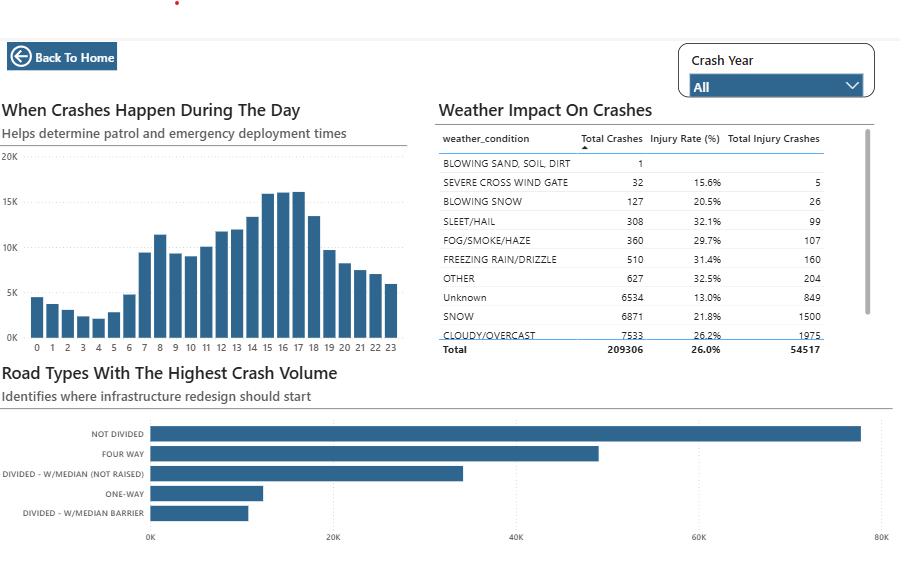

The page's visual inventory and layout, read from the dashboard file:
{"tool":"powerbi","page":{"name":"Deep Dive Analysis","canvas":[1280,720],"ordinal":1},"visuals":[{"type":"slicer","fields":{"Values":["Date_Table.Year"]},"box":[964.2,3.4,278.8,77.3],"z":0},{"type":"clusteredColumnChart","title":"When Crashes Happen During The Day","fields":{"Category":["traffic_accidents.crash_hour"],"Y":["_Measures.Total Crashes"]},"box":[0,80.6,579.5,372.9],"z":1000},{"type":"barChart","title":"Road Types With The Highest Crash Volume","fields":{"Category":["traffic_accidents.trafficway_type"],"Y":["_Measures.Total Crashes"]},"box":[0,453.5,1268.2,267.1],"z":2000},{"type":"tableEx","title":"Weather Impact On Crashes","fields":{"Values":["traffic_accidents.weather_condition","_Measures.Total Crashes","_Measures.Injury Rate (%)","_Measures.Total Injury Crashes"]},"box":[619.8,80.6,623.2,372.9],"z":3000},{"type":"actionButton","box":[13.4,1.7,156.2,40.3],"z":4000}]}

Visuals, with their boxes on the page's 1280x720 design canvas (x1, y1, x2, y2). These are canvas units, not pixel positions in the 900x563 screenshot, which may show the page scaled, cropped or inside an application window:
slicer - Date_Table.Year: (x1=964, y1=3, x2=1243, y2=81)
"When Crashes Happen During The Day" clusteredColumnChart: (x1=0, y1=81, x2=580, y2=454)
"Road Types With The Highest Crash Volume" barChart: (x1=0, y1=454, x2=1268, y2=721)
"Weather Impact On Crashes" tableEx: (x1=620, y1=81, x2=1243, y2=454)
actionButton: (x1=13, y1=2, x2=170, y2=42)
